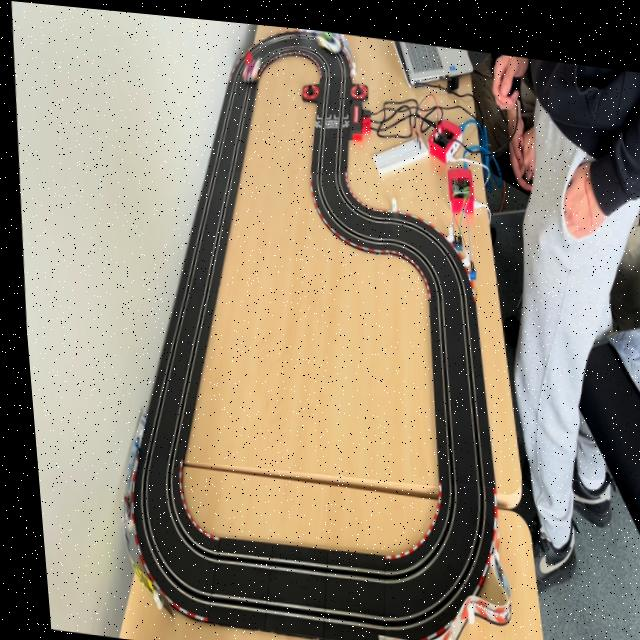mario: (238, 43, 264, 82)
yoshi: (314, 24, 342, 49)
